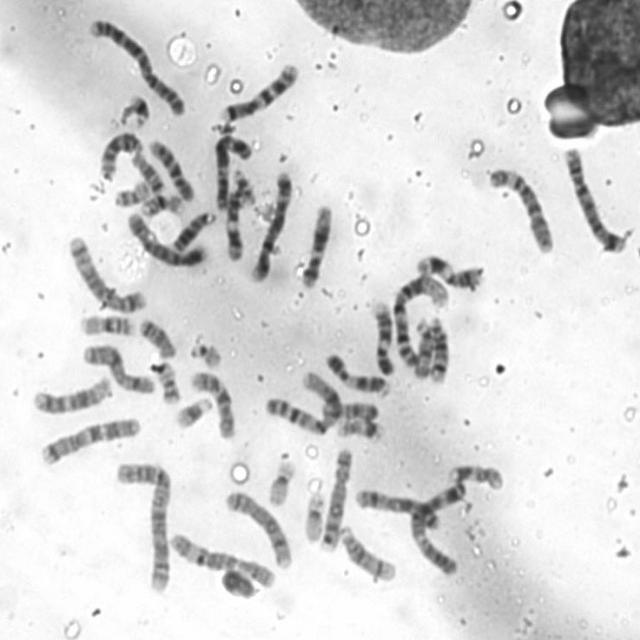A1: (388, 268, 453, 374), (261, 366, 345, 436)
A2: (84, 12, 188, 118), (111, 454, 176, 596)
A3: (405, 475, 469, 579), (208, 130, 256, 212)
B4: (560, 142, 628, 256), (123, 207, 211, 270)
B5: (62, 228, 148, 314), (246, 166, 294, 284)
C10: (186, 364, 238, 441), (144, 134, 196, 203)
C11: (412, 248, 486, 290), (222, 184, 248, 264)
C12: (29, 370, 114, 416), (296, 200, 334, 290)
C6: (165, 527, 278, 591), (484, 160, 556, 254)
C7: (36, 411, 144, 466), (216, 56, 302, 123)
C8: (220, 484, 294, 571), (316, 441, 355, 553)
C9: (320, 347, 392, 398), (368, 294, 398, 378)
D13: (96, 127, 145, 181), (168, 206, 219, 254)
D14: (334, 520, 399, 584), (424, 310, 452, 386)
D15: (411, 314, 436, 381), (318, 401, 381, 424)
E16: (77, 308, 138, 338), (137, 188, 187, 218)
E17: (445, 456, 506, 492), (334, 414, 386, 442)
E18: (135, 312, 178, 360), (128, 148, 166, 194)
F19: (264, 453, 299, 508), (300, 486, 328, 544)
F20: (151, 356, 182, 406), (111, 176, 152, 208)
G21: (170, 392, 214, 429), (117, 89, 153, 129)
G22: (186, 336, 224, 370), (228, 164, 257, 206)
X: (78, 338, 157, 396), (351, 483, 442, 532)
